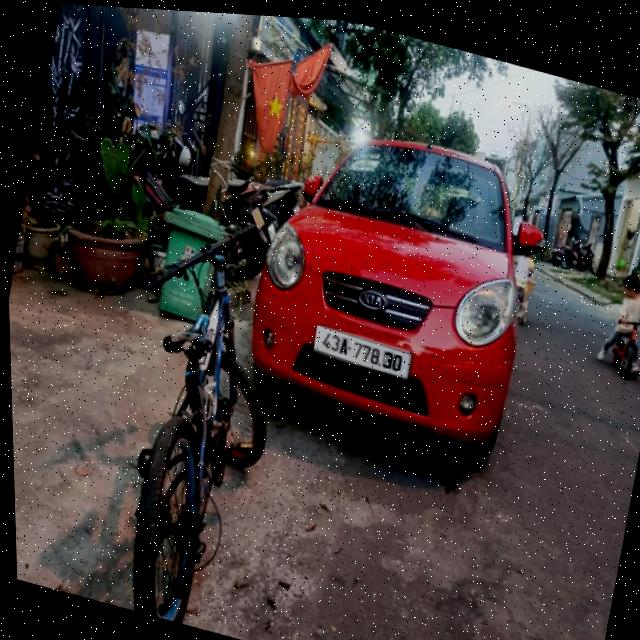car: (227, 95, 565, 467)
motorcycle: (590, 308, 640, 384)
plate: (304, 319, 420, 386)
